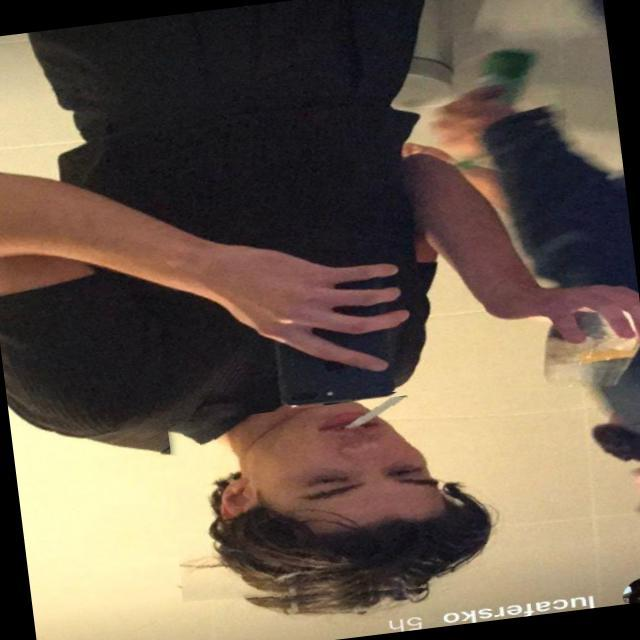cigarette: (342, 389, 422, 452)
